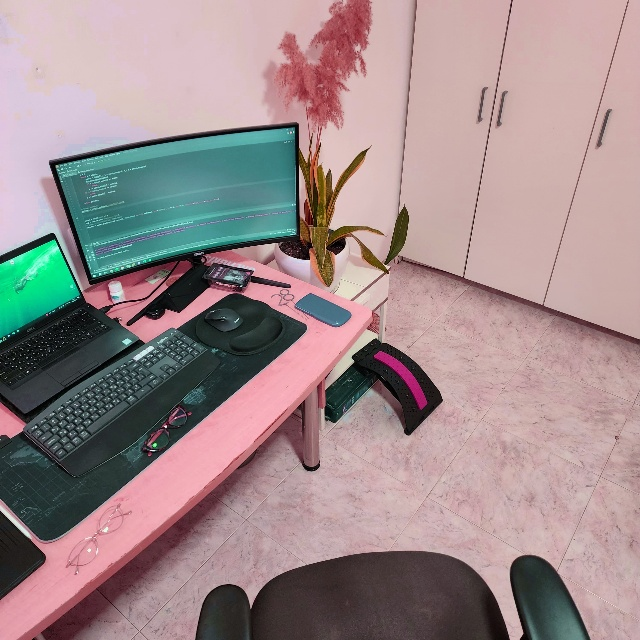glasses: (64, 502, 133, 579), (142, 404, 193, 459)
